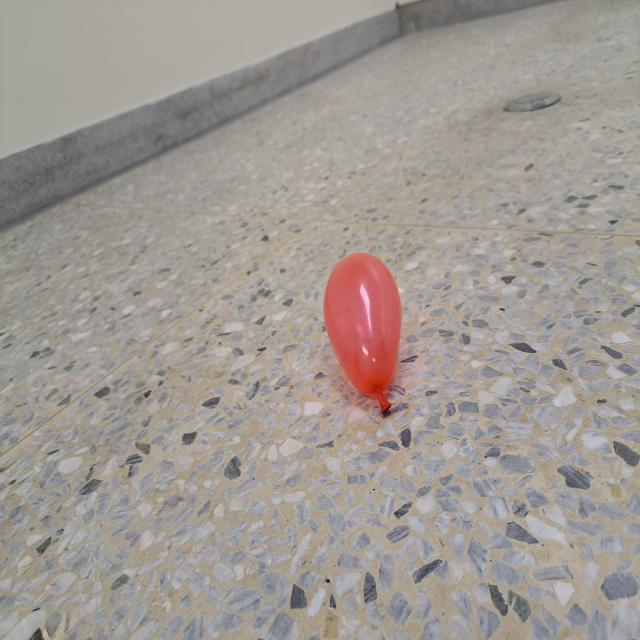red: (321, 251, 404, 416)
